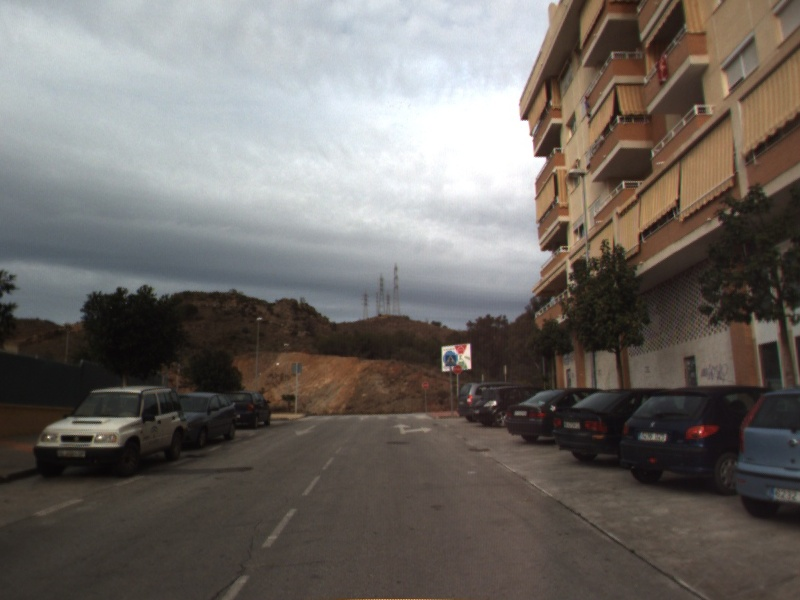STRAIGHT_RIGHT: (391, 421, 434, 436)
